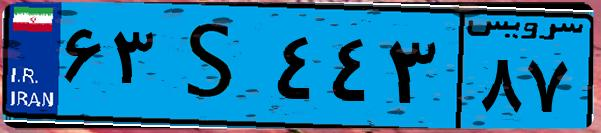3: (385, 28, 445, 110), (110, 28, 158, 98)
4: (270, 28, 330, 110), (330, 28, 385, 110)
6: (57, 26, 110, 100)
7: (525, 38, 570, 115)
8: (475, 38, 525, 113)
S: (158, 12, 270, 120)
